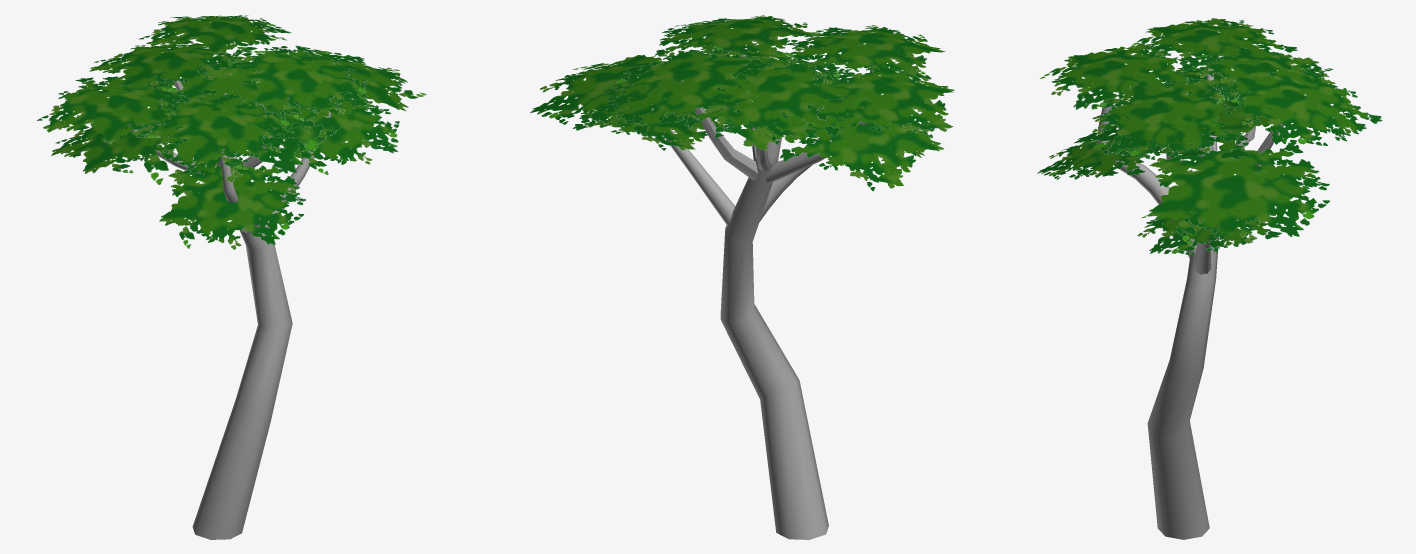
The model's file is prop_tree1.fbx.
3 renders of one model, left to right at view 1: azimuth 30°, elevation 25°; view 2: azimuth 150°, elevation 25°; view 3: azimuth 270°, elevation 25°, orthographic. The views are drawn at different scales.
Parts seen in each view (by area): view 1: sweep1, leaves_bent17, leaves_bent7, leaves_bent18, leaves_bent5, leaves_bent19, leaves_bent4, leaves_bent20, leaves_bent6, leaves_bent21, leaves_bent22; view 2: sweep1, leaves_bent6, leaves_bent19, leaves_bent4, leaves_bent21, leaves_bent7, leaves_bent22, leaves_bent5, leaves_bent18, leaves_bent20, sweep3, pCylinder19 (+2 smaller); view 3: leaves_bent22, sweep1, leaves_bent5, leaves_bent6, leaves_bent7, leaves_bent19, leaves_bent4, leaves_bent18, leaves_bent20, leaves_bent17, sweep4, leaves_bent21 (+1 smaller).
Part boxes in pixels (bbox=[...]): sweep1: bbox=[192, 157, 292, 539]; leaves_bent17: bbox=[159, 157, 306, 249]; leaves_bent7: bbox=[145, 89, 297, 169]; leaves_bent18: bbox=[144, 49, 344, 184]; leaves_bent5: bbox=[219, 46, 369, 121]; leaves_bent19: bbox=[37, 76, 191, 144]; leaves_bent4: bbox=[89, 41, 238, 91]; leaves_bent20: bbox=[280, 98, 399, 174]; leaves_bent6: bbox=[138, 15, 291, 54]; leaves_bent21: bbox=[51, 120, 189, 173]; leaves_bent22: bbox=[242, 45, 426, 116]; sweep1: bbox=[720, 137, 828, 539]; leaves_bent6: bbox=[604, 46, 758, 134]; leaves_bent19: bbox=[810, 64, 954, 138]; leaves_bent4: bbox=[684, 57, 843, 144]; leaves_bent21: bbox=[780, 101, 943, 191]; leaves_bent7: bbox=[787, 25, 945, 78]; leaves_bent22: bbox=[530, 54, 684, 126]; leaves_bent5: bbox=[654, 15, 816, 62]; leaves_bent18: bbox=[640, 43, 910, 150]; leaves_bent20: bbox=[572, 103, 736, 150]; sweep3: bbox=[648, 108, 735, 225]; pCylinder19: bbox=[681, 80, 758, 180]; leaves_bent22: bbox=[1148, 140, 1329, 245]; sweep1: bbox=[1147, 134, 1218, 539]; leaves_bent5: bbox=[1092, 79, 1240, 159]; leaves_bent6: bbox=[1216, 66, 1382, 145]; leaves_bent7: bbox=[1040, 43, 1201, 109]; leaves_bent19: bbox=[1130, 18, 1297, 71]; leaves_bent4: bbox=[1195, 47, 1337, 109]; leaves_bent18: bbox=[1073, 89, 1282, 158]; leaves_bent20: bbox=[1137, 210, 1281, 255]; leaves_bent17: bbox=[1037, 134, 1163, 179]; sweep4: bbox=[1098, 93, 1196, 258]; leaves_bent21: bbox=[1145, 68, 1250, 96].
Bounding box in the file's own units: 8.95 × 9.75 × 7.56.
